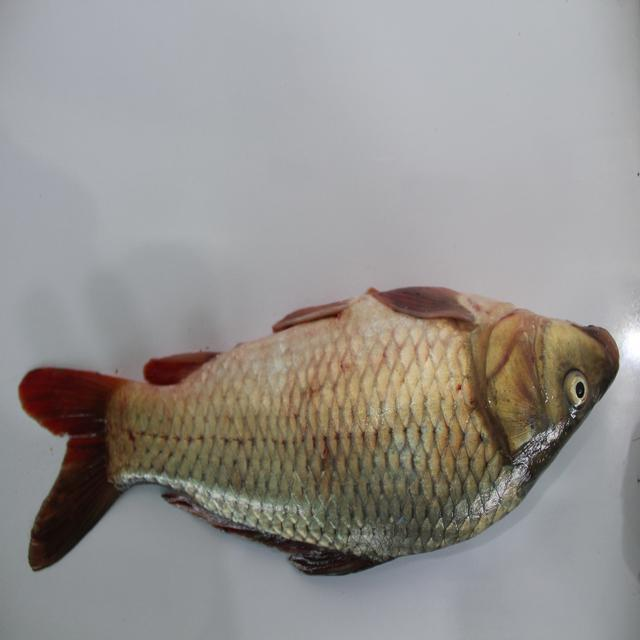CommonCarp: (15, 263, 618, 597)
